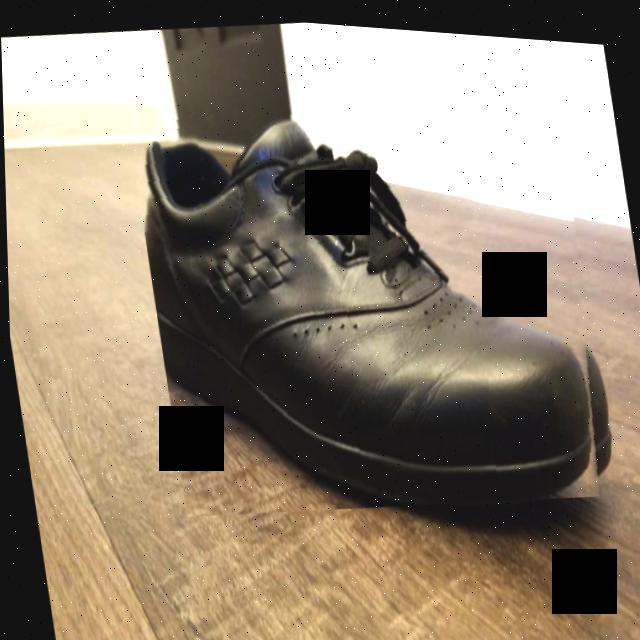shoe: (126, 66, 621, 539)
